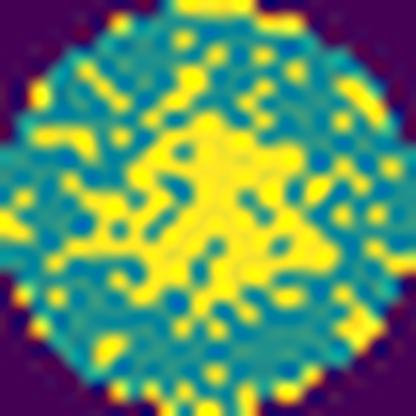Center: (49, 104, 349, 341)
